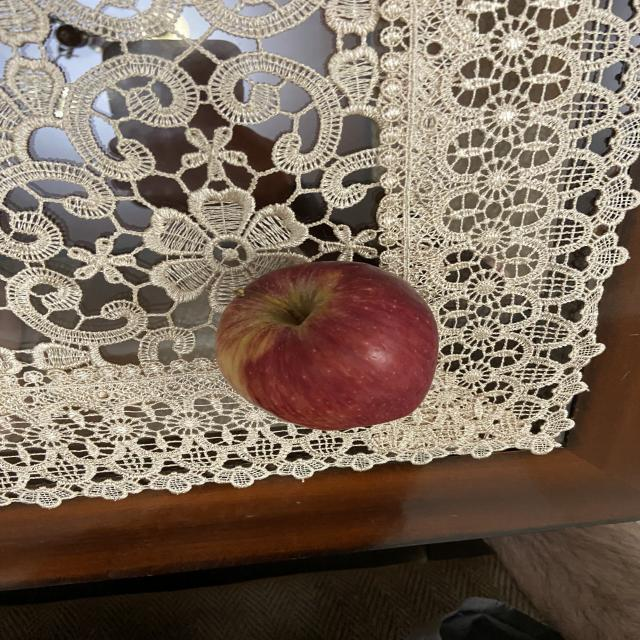apple: (210, 259, 447, 435)
